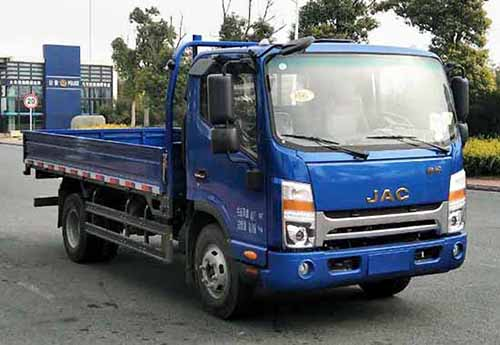smalltruck: (32, 36, 463, 321)
